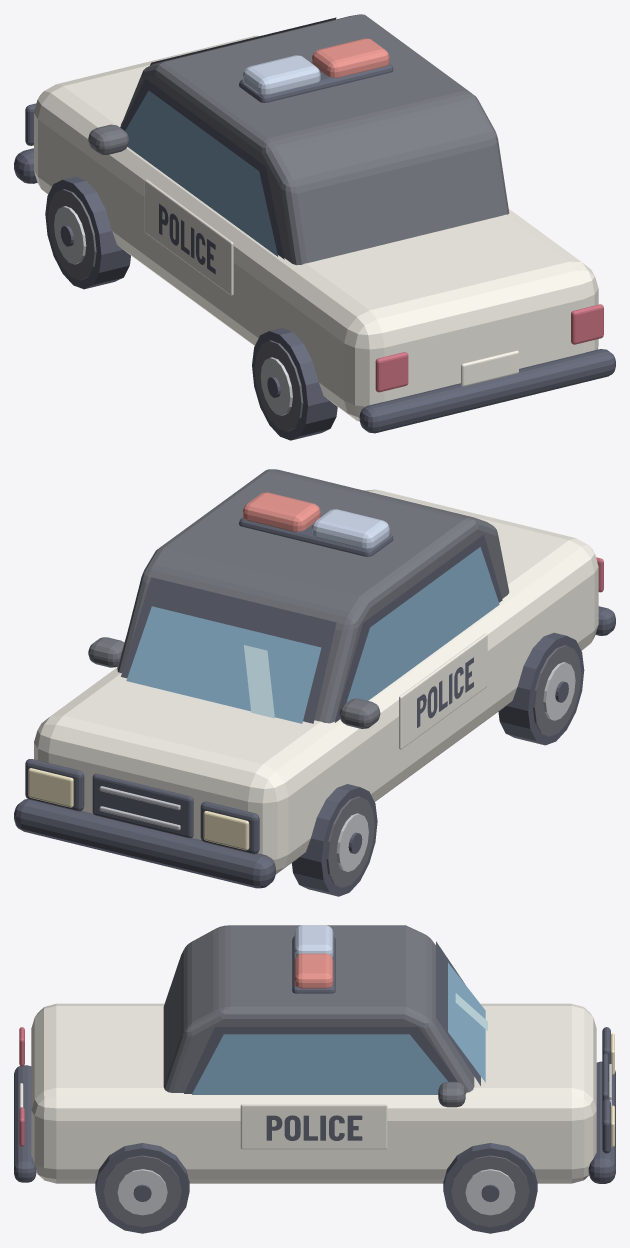
The model's file is police.glb.
3 views of the same model, one above another, from view 1: azimuth 30°, elevation 25°; view 2: azimuth 150°, elevation 25°; view 3: azimuth 270°, elevation 25° (orthographic). The views are drawn at different scales.
Parts seen in each view (by area): view 1: Rounded_body, Shaped_passenger_cabin, Side_glass, Rear_bumper, Police_door, Rubber_tire, Rubber_tire.002, Side_window_seal, Emergency_lens, Emergency_lens.001, Wheel_sidewall, Wheel_sidewall.002 (+9 smaller); view 2: Rounded_body, Shaped_passenger_cabin, Blue_windscreen, Side_glass, Front_bumper, Dark_windscreen_seal, Police_door, Grille, Rubber_tire.002, Rubber_tire, Side_window_seal, Emergency_lens (+14 smaller); view 3: Rounded_body, Shaped_passenger_cabin, Side_glass.001, Police_door.001, Side_window_seal.001, Wheel_sidewall.003, Wheel_sidewall.001, Rubber_tire.003, Rubber_tire.001, Blue_windscreen, Rear_bumper, Front_bumper (+9 smaller).
Boxes of the visible parts, x1,y1,x2,y2 form: Rounded_body: [34, 35, 598, 421]; Shaped_passenger_cabin: [120, 14, 509, 265]; Side_glass: [125, 90, 277, 256]; Rear_bumper: [359, 349, 615, 433]; Police_door: [144, 179, 233, 295]; Rubber_tire: [45, 176, 130, 289]; Rubber_tire.002: [252, 328, 337, 440]; Side_window_seal: [121, 78, 284, 259]; Emergency_lens: [243, 55, 320, 94]; Emergency_lens.001: [312, 38, 389, 77]; Wheel_sidewall: [48, 189, 96, 280]; Wheel_sidewall.002: [254, 340, 303, 431]; Rounded_body: [34, 489, 598, 874]; Shaped_passenger_cabin: [117, 469, 509, 723]; Blue_windscreen: [126, 606, 321, 723]; Side_glass: [346, 547, 499, 702]; Front_bumper: [14, 799, 275, 888]; Dark_windscreen_seal: [121, 577, 336, 723]; Police_door: [399, 633, 487, 749]; Grille: [92, 773, 193, 838]; Rubber_tire.002: [498, 632, 584, 745]; Rubber_tire: [292, 784, 377, 896]; Side_window_seal: [335, 535, 502, 722]; Emergency_lens: [312, 509, 389, 548]; Rounded_body: [31, 1003, 596, 1183]; Shaped_passenger_cabin: [163, 925, 474, 1092]; Side_glass.001: [192, 1034, 448, 1094]; Police_door.001: [240, 1104, 387, 1149]; Side_window_seal.001: [184, 1027, 466, 1093]; Wheel_sidewall.003: [103, 1155, 181, 1227]; Wheel_sidewall.001: [451, 1155, 529, 1227]; Rubber_tire.003: [95, 1143, 189, 1233]; Rubber_tire.001: [443, 1143, 537, 1233]; Blue_windscreen: [448, 963, 485, 1082]; Rear_bumper: [14, 1065, 36, 1182]; Front_bumper: [588, 1061, 615, 1183].
Bounding box in the file's own units: 2.28 × 2.02 × 4.84.
